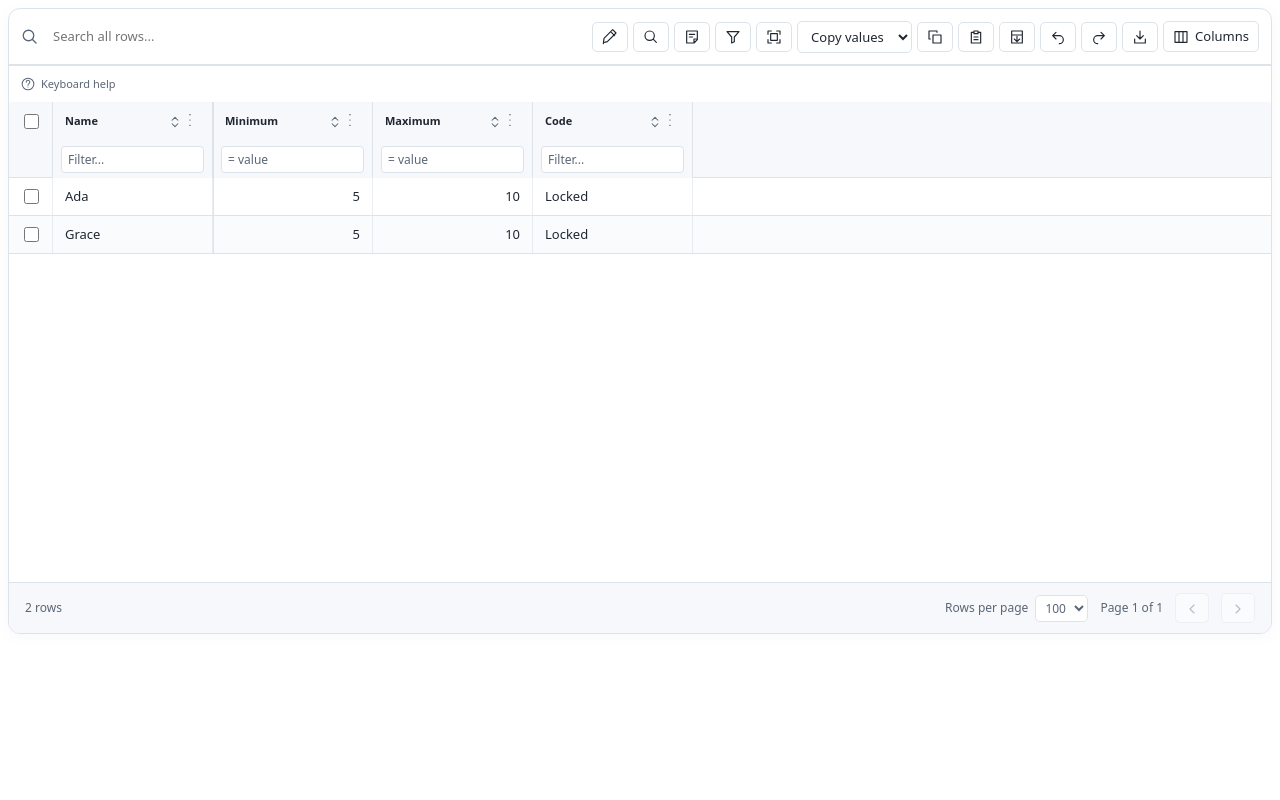
DataGrid row editing mode › creates a fresh live session after StrictMode effect replay
Press F2 in the cell "Ada", box top-left (53, 178), bottom-right (213, 215)
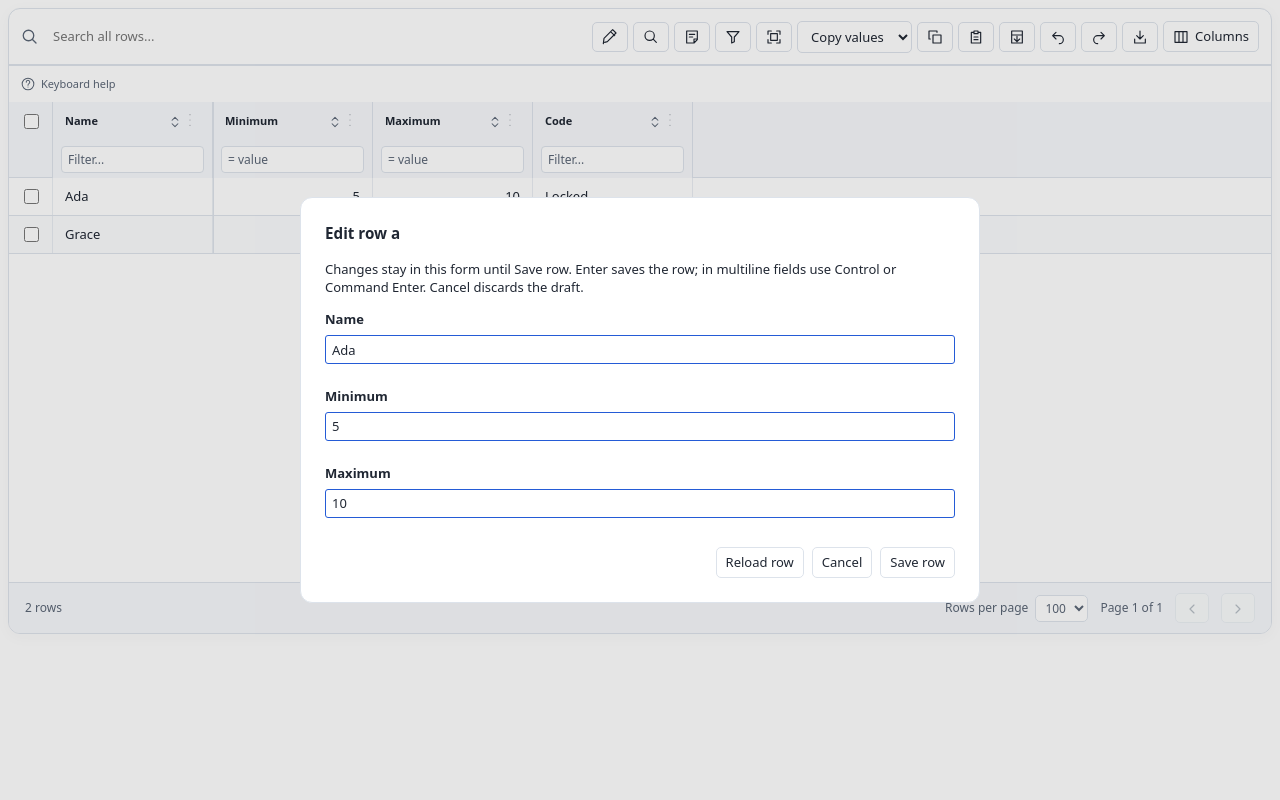
Now the button "Save row" is enabled, box top-left (880, 547), bottom-right (955, 578)
Replace the text in the field named "Edit Name" with "Strict saved": [640, 350] box top-left (325, 335), bottom-right (955, 364)
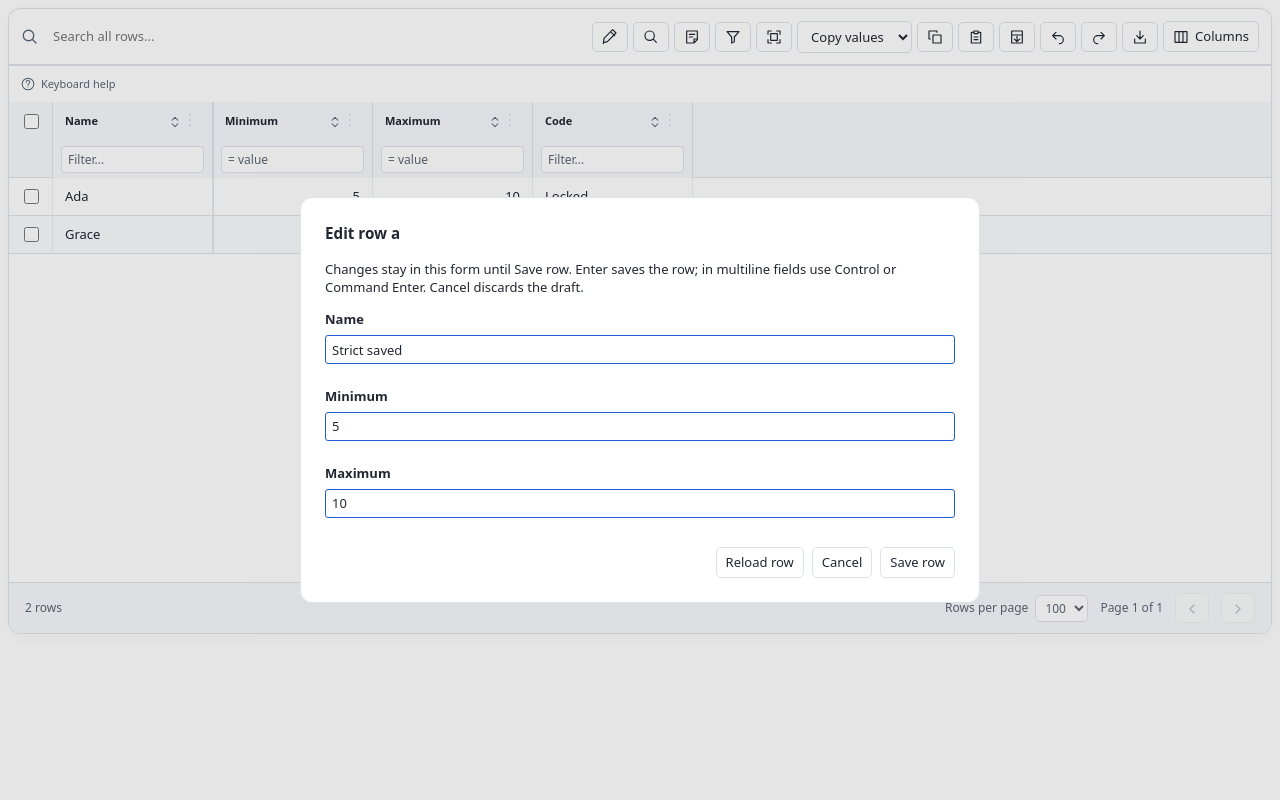
Click the button "Save row": [918, 562] box top-left (880, 547), bottom-right (955, 578)
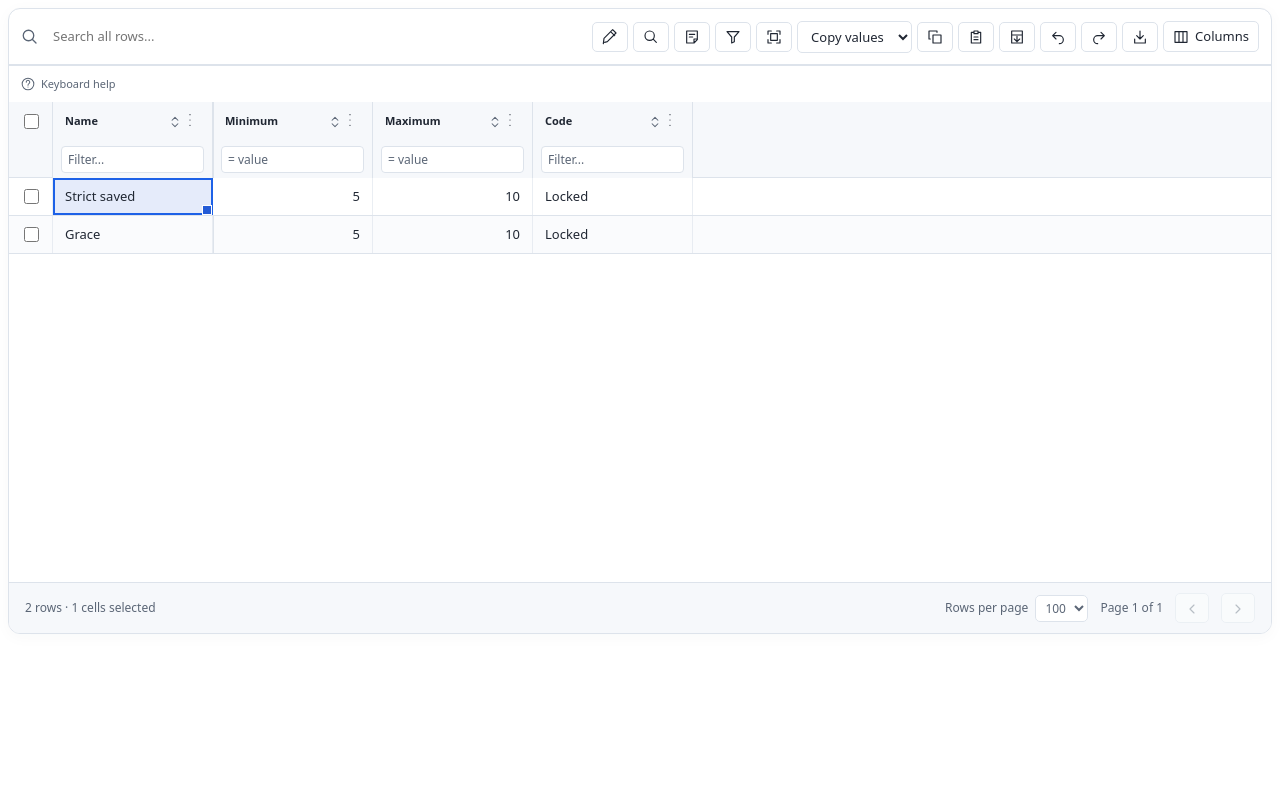
Now the text "Strict saved" is shown, box top-left (65, 187), bottom-right (135, 206)
Now the dialog is gone
